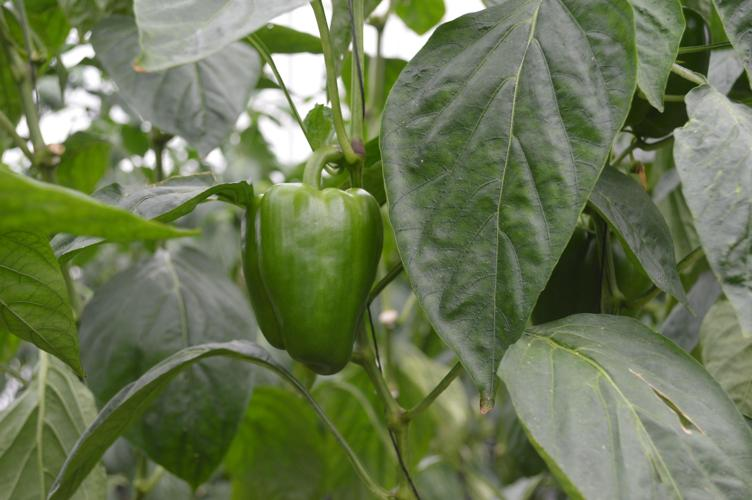BellPepper: (233, 179, 391, 380)
